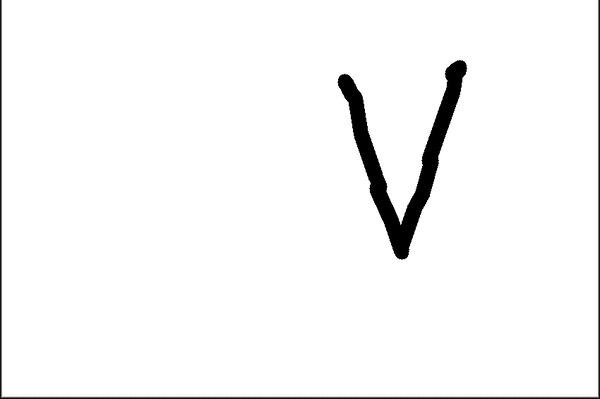V: (330, 52, 485, 265)
